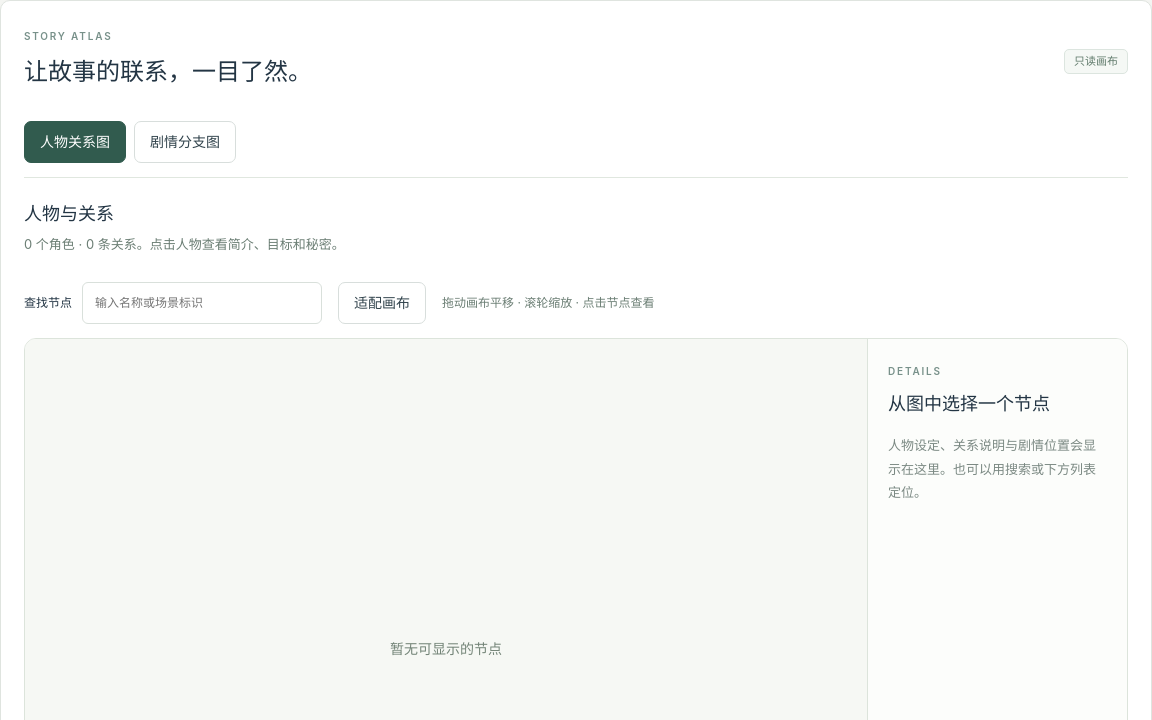
Test: V09–V11 read-only story atlas › shows an empty state and no-match search result for a cast with no relations
The image size is (1152, 720).
Expected: the text "暂无可显示的节点" is shown, [390, 640, 502, 657]
Type "不存在" into the field named "查找人物节点".
click(202, 303); type("不存在")  # box [82, 282, 322, 324]
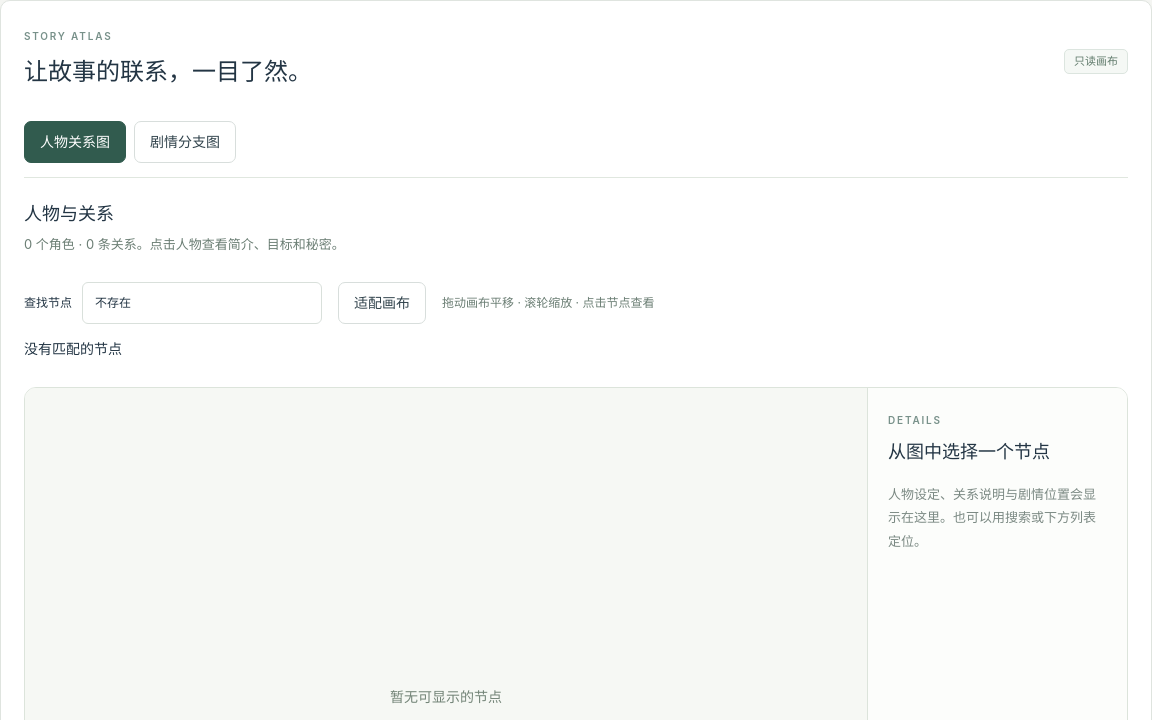
Expected: the text "没有匹配的节点" is shown, [24, 338, 122, 361]
